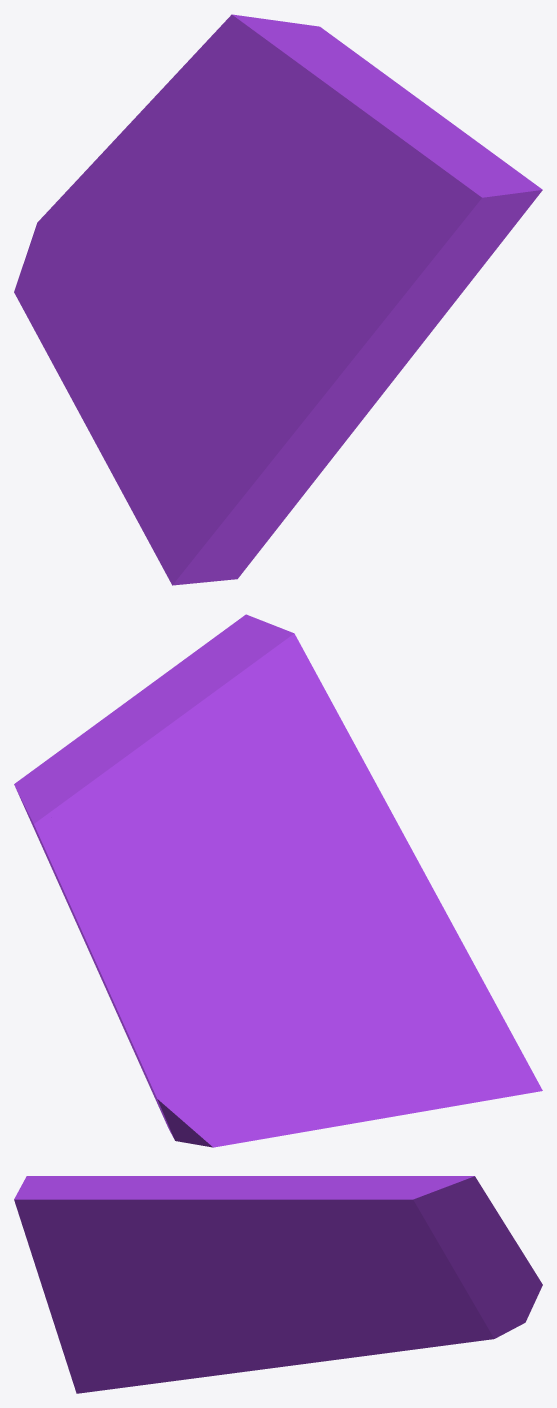
File: Window_116_3_chunks.fbx
The picture shows the model from 3 angles, top to bottom: view 1: azimuth 30°, elevation 25°; view 2: azimuth 150°, elevation 25°; view 3: azimuth 270°, elevation 25°; orthographic projection. The views are drawn at different scales.
Visible parts, largest first — view 1: Window_116_3_0, Window_116_3_9, Window_116_3_2, Window_116_3_6, Window_116_3_3, Window_116_3_7, Window_116_3_5, Window_116_3_8, Window_116_3_1; view 2: Window_116_3_0, Window_116_3_9, Window_116_3_6, Window_116_3_3, Window_116_3_2, Window_116_3_7, Window_116_3_5, Window_116_3_8; view 3: Window_116_3_0, Window_116_3_7, Window_116_3_1, Window_116_3_6, Window_116_3_2, Window_116_3_3, Window_116_3_8, Window_116_3_9, Window_116_3_4.
Part boxes in pixels (box(x1,y1,x2,y2)): Window_116_3_0: box(14, 14, 263, 360); Window_116_3_9: box(268, 157, 486, 360); Window_116_3_2: box(130, 372, 361, 585); Window_116_3_6: box(201, 19, 381, 227); Window_116_3_3: box(51, 257, 206, 507); Window_116_3_7: box(334, 72, 542, 261); Window_116_3_5: box(195, 257, 362, 390); Window_116_3_8: box(195, 205, 285, 302); Window_116_3_1: box(357, 311, 447, 425); Window_116_3_0: box(27, 810, 290, 1147); Window_116_3_9: box(203, 632, 396, 890); Window_116_3_6: box(14, 731, 230, 931); Window_116_3_3: box(246, 949, 455, 1134); Window_116_3_2: box(374, 844, 542, 1105); Window_116_3_7: box(78, 614, 290, 769); Window_116_3_5: box(246, 821, 408, 985); Window_116_3_8: box(220, 838, 314, 948); Window_116_3_0: box(330, 1176, 542, 1353); Window_116_3_7: box(14, 1176, 302, 1254); Window_116_3_1: box(33, 1259, 338, 1317); Window_116_3_6: box(257, 1176, 452, 1271); Window_116_3_2: box(52, 1316, 214, 1393); Window_116_3_3: box(213, 1316, 381, 1375); Window_116_3_8: box(172, 1245, 345, 1277); Window_116_3_9: box(26, 1176, 192, 1267); Window_116_3_4: box(150, 1315, 331, 1344).
Bounding box in the file's own units: 537 × 546 × 839.
